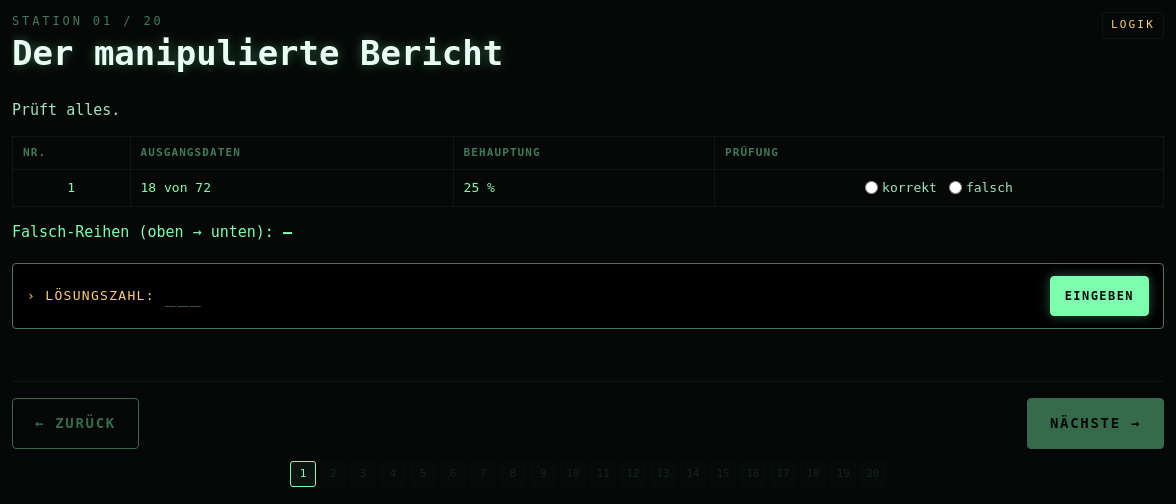
Test case: StationView › Server-invalid → Fehler, Eingabe bleibt
In the field with placeholder "___": (602, 296) 165,283 -> 1040,310, type "99"
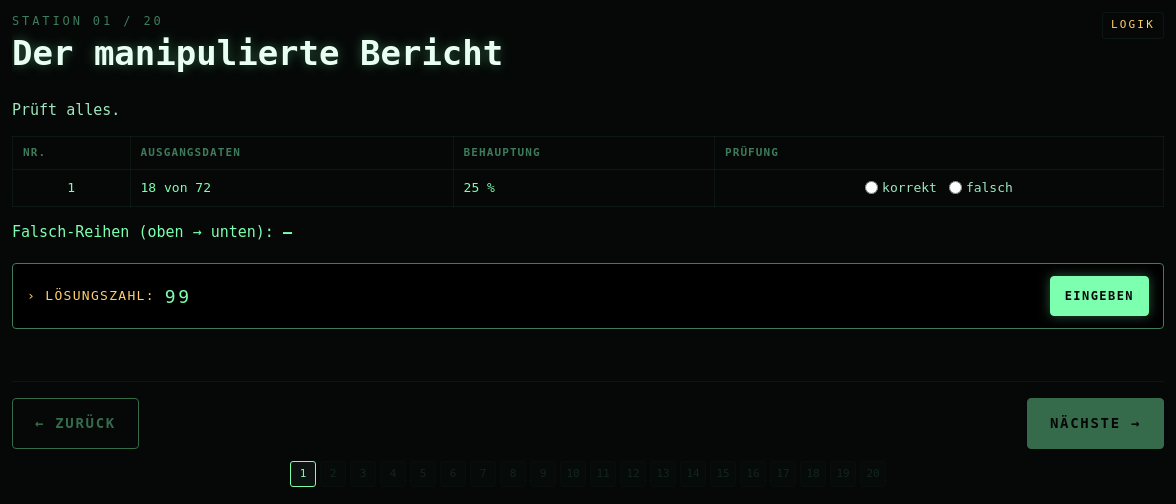
Click the button "Eingeben": (1099, 296) 1050,276 -> 1149,316
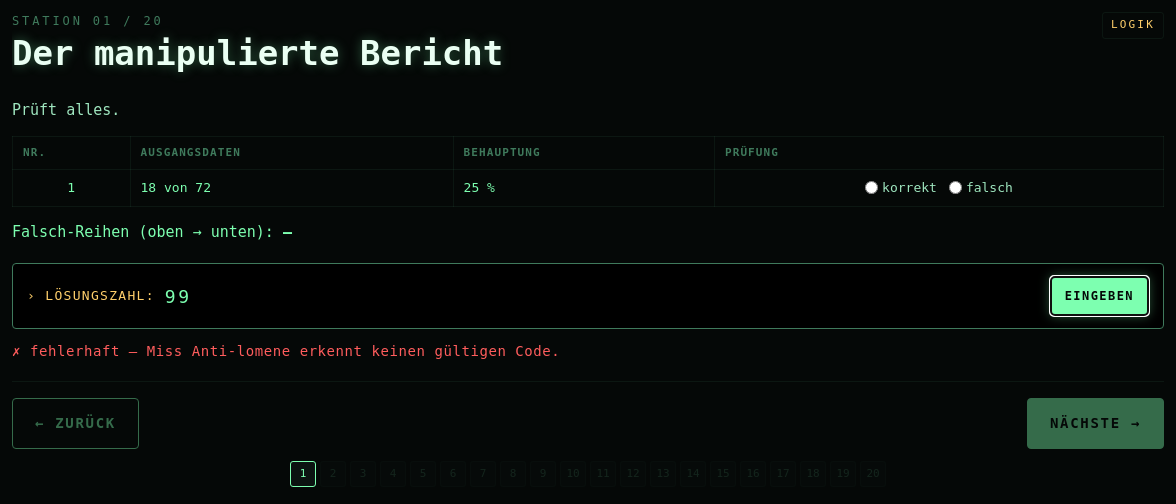
expect the text "fehlerhaft" is shown: met, box 12,343 -> 560,359
